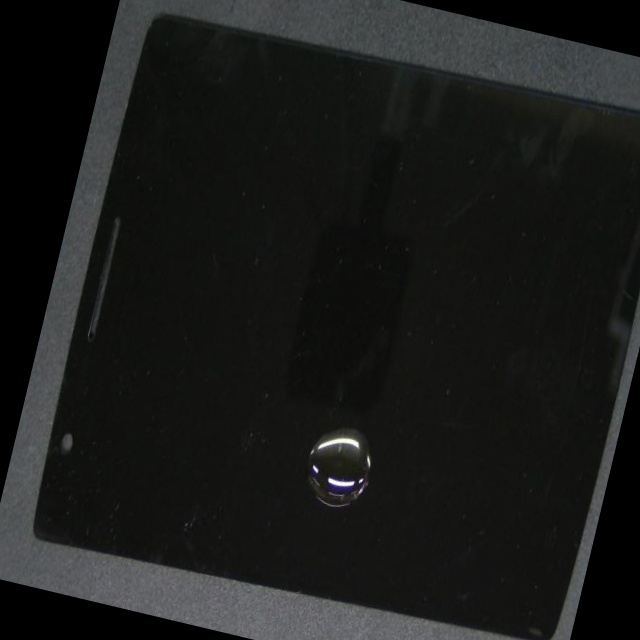oil: (139, 245, 580, 640)
